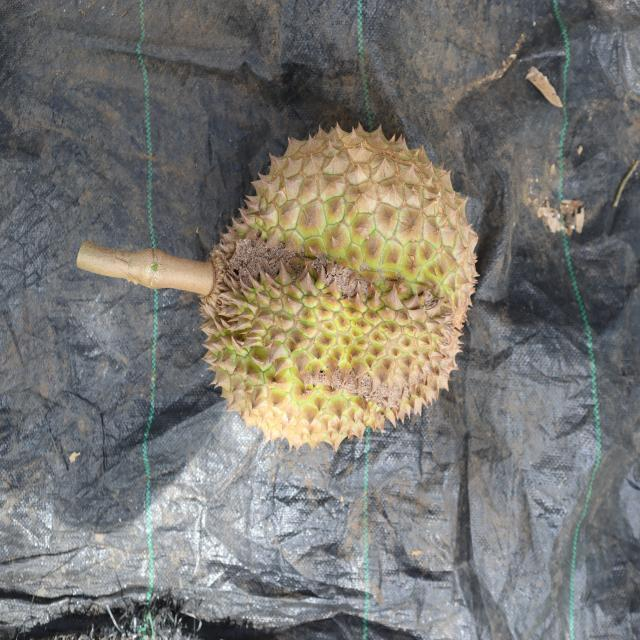mature: (199, 117, 483, 449)
